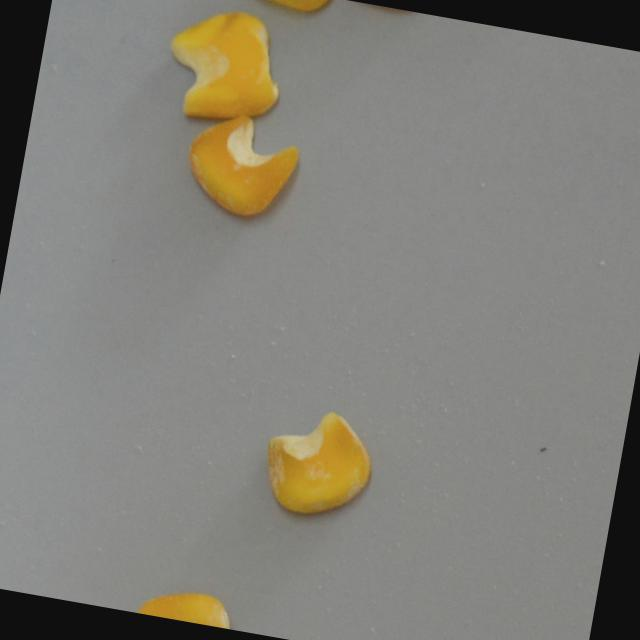dañado: (150, 0, 299, 134), (253, 397, 381, 528), (176, 101, 307, 228)
pelicula: (130, 577, 244, 631)
